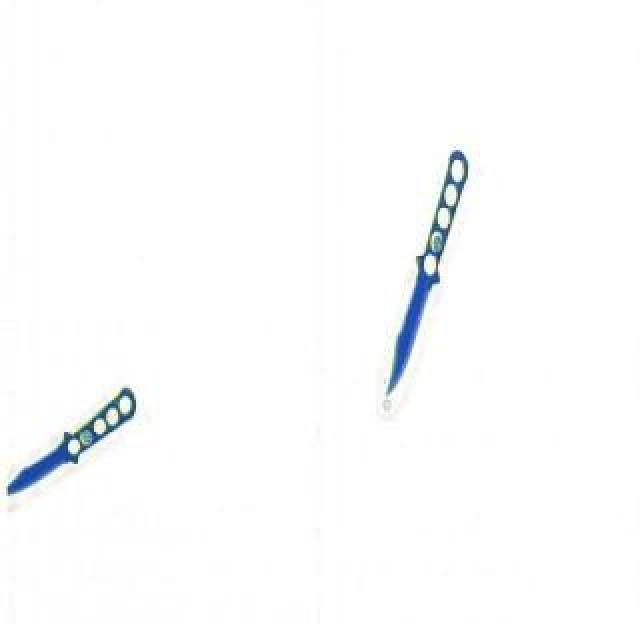knife: (374, 152, 478, 400), (0, 388, 146, 504)
